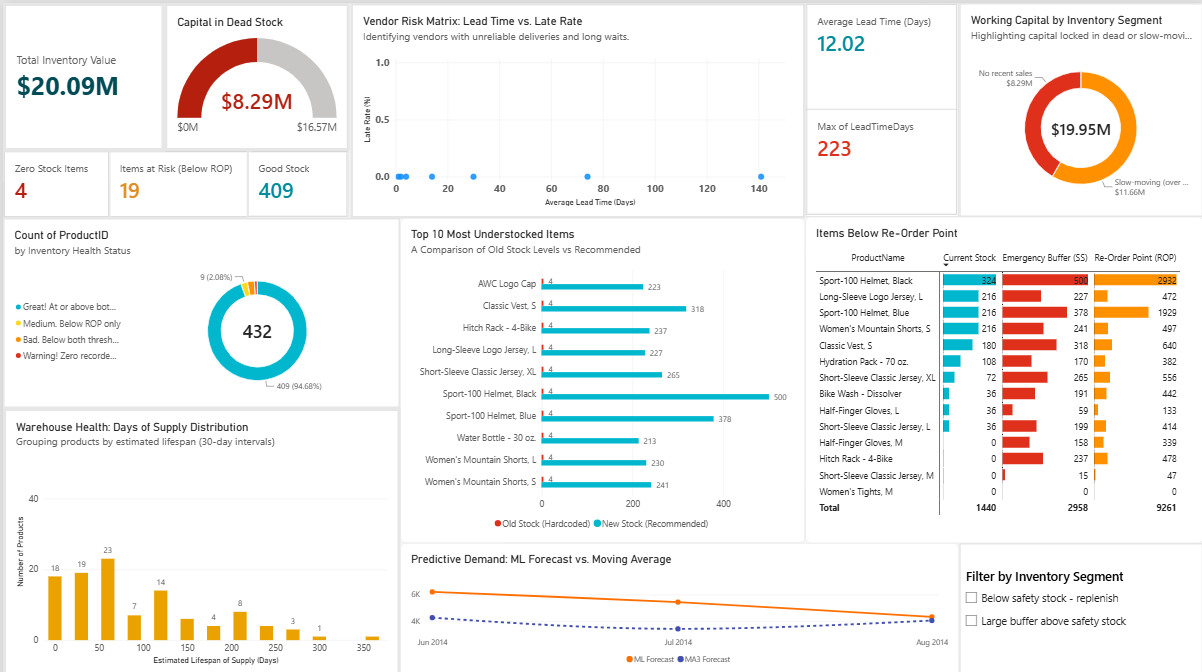

What the dashboard file says about the page in this screenshot:
{"tool":"powerbi","page":{"name":"Page 1","canvas":[1920,1080],"ordinal":0},"visuals":[{"type":"scatterChart","title":"Vendor Risk Matrix: Lead Time vs. Late Rate","fields":{"Category":["product_segments_fixed.LeadTimeDays"],"X":["Avg(product_segments_fixed.LeadTimeDays)"],"Y":["Avg(product_segments_fixed.LateRate)"]},"box":[555,0,728.3,345],"z":0},{"type":"donutChart","title":"Working Capital by Inventory Segment","fields":{"Category":["product_segments_fixed.Segment"],"Y":["Sum(product_segments_fixed.TotalInventoryValue)"]},"box":[1530,0,390.1,342.6],"z":1000},{"type":"donutChart","fields":{"Category":["product_segments_fixed.Inventory Health Status"],"Y":["CountNonNull(product_segments_fixed.ProductID)"]},"box":[0,343.8,635,303.8],"z":2000},{"type":"pivotTable","title":"Items Below Re-Order Point","fields":{"Rows":["product_segments_fixed.ProductName"],"Values":["Sum(product_segments_fixed.TotalOnHand)","Sum(product_segments_fixed.SS_Statistical)","Sum(product_segments_fixed.ROP_Statistical)"]},"box":[1284,342.6,636.1,522.4],"z":3000},{"type":"clusteredBarChart","title":"Top 10 Most Understocked Items","fields":{"Category":["recommended_policy.ProductName"],"Y":["Sum(recommended_policy.CurrSafetyStock)","Sum(recommended_policy.SS_Statistical)"]},"box":[636.2,343.8,647.5,520],"z":4000},{"type":"columnChart","title":"Warehouse Health: Days of Supply Distribution","fields":{"Category":["product_segments_fixed.DaysOfSupply (bins)"],"Y":["CountNonNull(product_segments_fixed.ProductID)"]},"box":[0,648,636,432],"z":5000},{"type":"cardVisual","title":"Total Inventory","fields":{"Data":["Sum(product_segments_fixed.TotalInventoryValue)"]},"box":[0,0,258.6,237.1],"z":6000},{"type":"gauge","fields":{"Y":["Sum(product_segments_fixed.TotalInventoryValue)"]},"box":[257.1,0,297.1,237.1],"z":7000},{"type":"cardVisual","title":"Items at Risk (Below ROP)","fields":{"Data":["CountNonNull(product_segments_fixed.ProductID)"]},"box":[167.1,235.7,231,109],"z":8000},{"type":"cardVisual","title":"Items at Risk (Below ROP)","fields":{"Data":["Avg(product_segments_fixed.LeadTimeDays)","Max(product_segments_fixed.LeadTimeDays)"]},"box":[1284,0,246,342.6],"z":9000},{"type":"cardVisual","title":"Items at Risk (Below ROP)","fields":{"Data":["CountNonNull(product_segments_fixed.ProductID)"]},"box":[0,235.7,172,109],"z":10000},{"type":"cardVisual","title":"Items at Risk (Below ROP)","fields":{"Data":["CountNonNull(product_segments_fixed.ProductID)"]},"box":[390.7,235.7,163.8,108.5],"z":11000},{"type":"slicer","title":"       ","fields":{"Values":["product_segments_fixed.Segment"]},"box":[1530,863.8,390,215],"z":12000},{"type":"lineChart","title":"Predictive Demand: ML Forecast vs. Moving Average","fields":{"Category":["forecast.ForecastMonth"],"Y":["Sum(forecast.Forecast_ML)","Sum(forecast.Forecast_MA3)"]},"box":[636.7,863.3,893.3,216.7],"z":13000}]}

Visuals, with their boxes in screenshot pixels (x1, y1, x2, y2), scaled from the page's 1920x1080 canvas onto the 1202x672 screenshot:
"Vendor Risk Matrix: Lead Time vs. Late Rate" scatterChart: select_region(347, 0, 803, 215)
"Working Capital by Inventory Segment" donutChart: select_region(958, 0, 1201, 213)
donutChart - product_segments_fixed.Inventory Health Status x CountNonNull(product_segments_fixed.ProductID): select_region(0, 214, 398, 403)
"Items Below Re-Order Point" pivotTable: select_region(804, 213, 1201, 538)
"Top 10 Most Understocked Items" clusteredBarChart: select_region(398, 214, 804, 537)
"Warehouse Health: Days of Supply Distribution" columnChart: select_region(0, 403, 398, 671)
"Total Inventory" cardVisual: select_region(0, 0, 162, 148)
gauge - Sum(product_segments_fixed.TotalInventoryValue): select_region(161, 0, 347, 148)
"Items at Risk (Below ROP)" cardVisual: select_region(105, 147, 249, 214)
"Items at Risk (Below ROP)" cardVisual: select_region(804, 0, 958, 213)
"Items at Risk (Below ROP)" cardVisual: select_region(0, 147, 108, 214)
"Items at Risk (Below ROP)" cardVisual: select_region(245, 147, 347, 214)
"       " slicer: select_region(958, 537, 1201, 671)
"Predictive Demand: ML Forecast vs. Moving Average" lineChart: select_region(399, 537, 958, 671)
